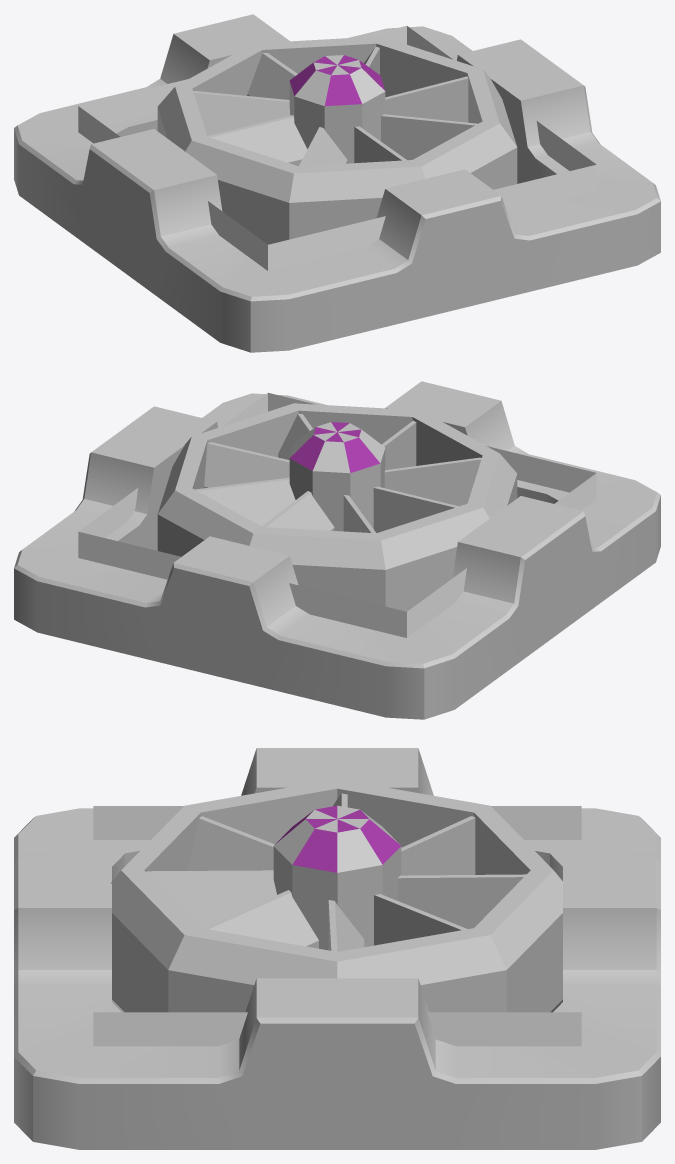
File: Museum_Deco_Turbine_01_Art.fbx
3 renders of one model, top to bottom at view 1: azimuth 30°, elevation 25°; view 2: azimuth 150°, elevation 25°; view 3: azimuth 270°, elevation 25°, orthographic. The views are drawn at different scales.
Visible parts, largest first — view 1: Museum_Deco_Turbine_01; view 2: Museum_Deco_Turbine_01; view 3: Museum_Deco_Turbine_01.
Part boxes in pixels (<box>): Museum_Deco_Turbine_01: <box>14,14,660,352</box>; Museum_Deco_Turbine_01: <box>14,381,660,719</box>; Museum_Deco_Turbine_01: <box>14,748,660,1149</box>.
Size of what is drawn, in the model's own units: 303 by 100 by 303.
